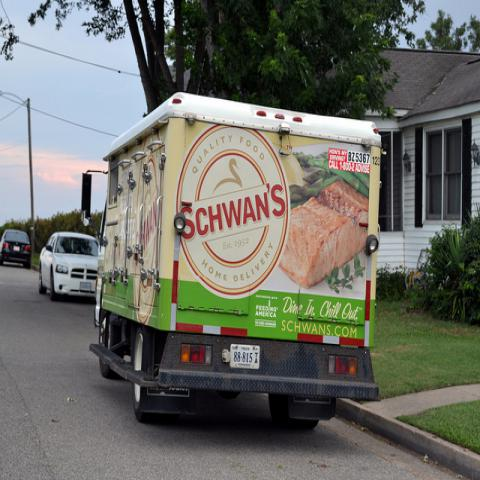car: (38, 231, 100, 303), (0, 230, 32, 269)
truck: (81, 93, 384, 430)
